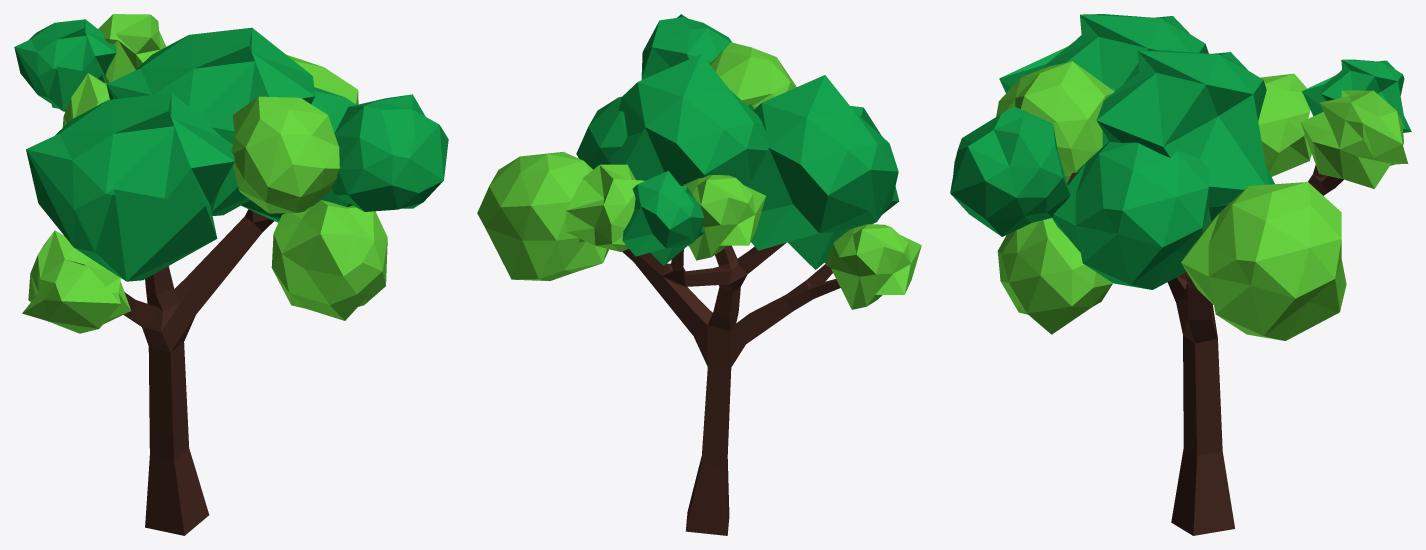
File: tree.glb
The picture shows the model from 3 angles, left to right: view 1: azimuth 30°, elevation 25°; view 2: azimuth 150°, elevation 25°; view 3: azimuth 270°, elevation 25°; orthographic projection. The views are drawn at different scales.
Parts seen in each view (by area): view 1: Icosphere.005, Plane, Icosphere.008, Icosphere.002, Icosphere.001, Icosphere, Icosphere.004, Icosphere.006, Icosphere.007, Icosphere.009, Icosphere.010, Icosphere.003; view 2: Icosphere.005, Plane, Icosphere.008, Icosphere.003, Icosphere.004, Icosphere.006, Icosphere.007, Icosphere.010, Icosphere.001, Icosphere, Icosphere.009; view 3: Icosphere.003, Icosphere.008, Icosphere.009, Plane, Icosphere.001, Icosphere.002, Icosphere.007, Icosphere.005, Icosphere, Icosphere.010, Icosphere.006.
Part boxes in pixels (x1,y1,x2,y2): Icosphere.005: [26, 92, 234, 281]; Plane: [123, 209, 273, 535]; Icosphere.008: [106, 27, 315, 215]; Icosphere.002: [271, 200, 387, 320]; Icosphere.001: [332, 94, 448, 211]; Icosphere: [231, 96, 339, 213]; Icosphere.004: [22, 230, 131, 333]; Icosphere.006: [14, 19, 116, 111]; Icosphere.007: [98, 14, 166, 83]; Icosphere.009: [241, 87, 356, 222]; Icosphere.010: [62, 73, 109, 127]; Icosphere.003: [287, 55, 358, 104]; Icosphere.005: [748, 75, 899, 269]; Plane: [622, 242, 840, 535]; Icosphere.008: [610, 54, 768, 245]; Icosphere.003: [477, 151, 608, 281]; Icosphere.004: [824, 224, 921, 309]; Icosphere.006: [622, 170, 704, 265]; Icosphere.007: [566, 164, 644, 251]; Icosphere.010: [683, 175, 765, 260]; Icosphere.001: [641, 14, 732, 79]; Icosphere: [709, 42, 796, 109]; Icosphere.009: [576, 96, 627, 169]; Icosphere.003: [1181, 182, 1346, 340]; Icosphere.008: [1096, 50, 1274, 220]; Icosphere.009: [1052, 141, 1211, 289]; Plane: [1067, 165, 1343, 535]; Icosphere.001: [950, 106, 1070, 236]; Icosphere.002: [997, 218, 1112, 334]; Icosphere.007: [1300, 90, 1408, 188]; Icosphere.005: [999, 14, 1208, 92]; Icosphere: [996, 61, 1114, 182]; Icosphere.010: [1258, 73, 1311, 176]; Icosphere.006: [1302, 59, 1411, 132].
Size of the model in its own units: 22.5 by 26.61 by 22.38.
